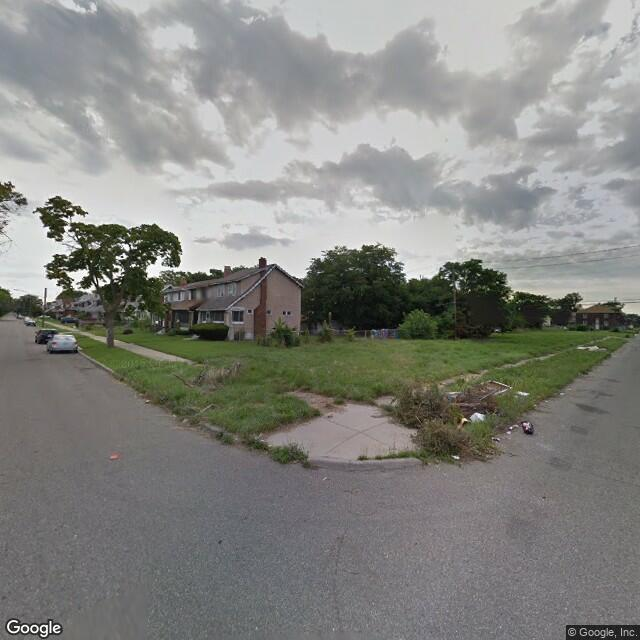litter: (443, 386, 491, 410), (450, 410, 497, 429), (444, 447, 471, 465), (104, 450, 128, 470), (512, 415, 537, 433)
